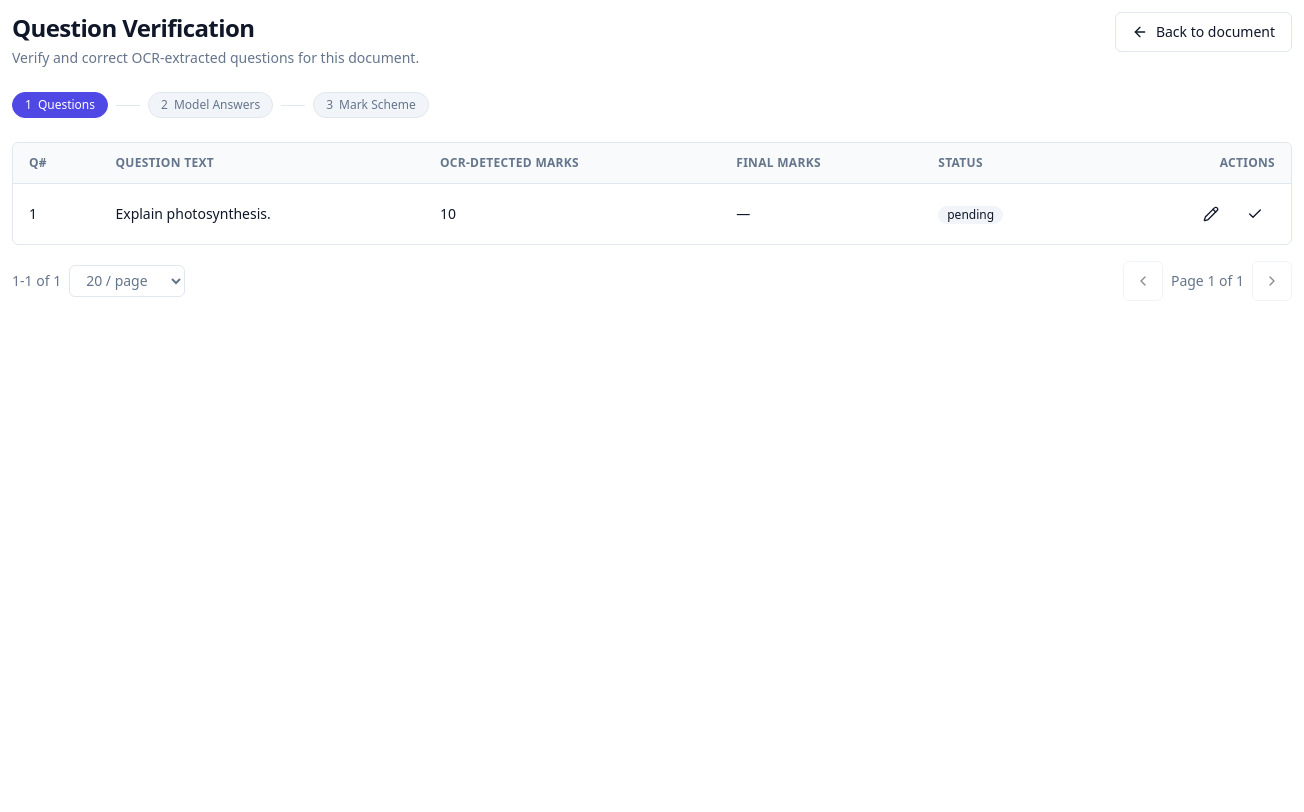
QuestionVerificationPage › verifies a question and shows a success toast
Expected: the text "Explain photosynthesis." is shown, [100,183,424,244]
What coordinates should you click on to do the following:
click the button named "Verify question 1"
I would click on:
 (1255, 214)
Its box is [1235,194,1275,234].
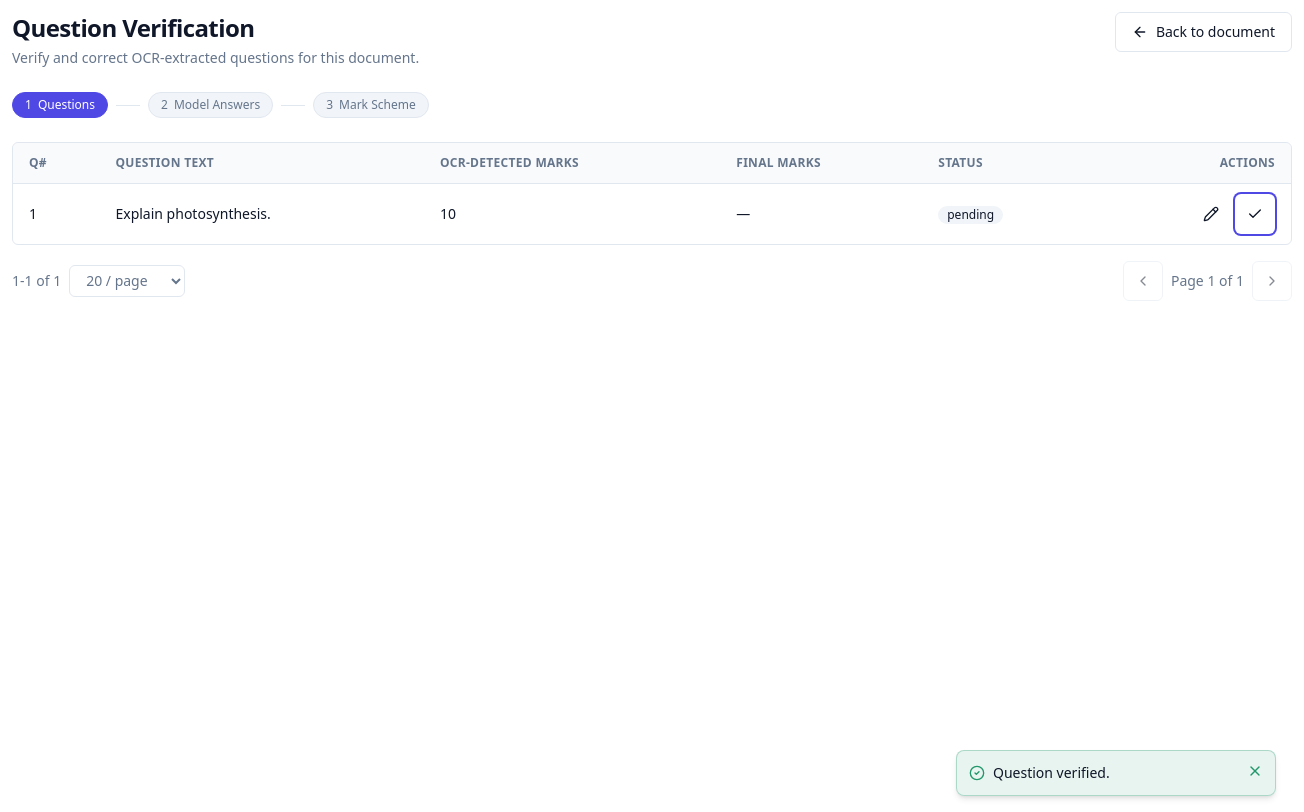
Expected: the text "Question verified." is shown, [993,763,1110,782]
